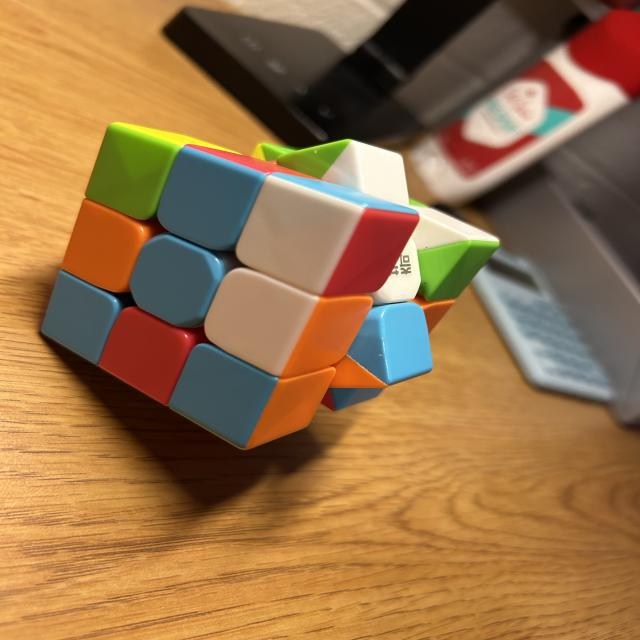Rubiks Cube: (42, 120, 499, 451)
